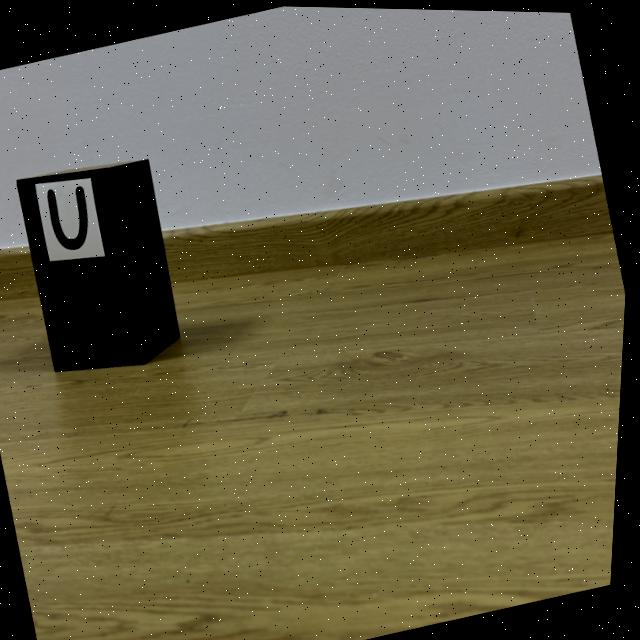U: (49, 185, 90, 250)
